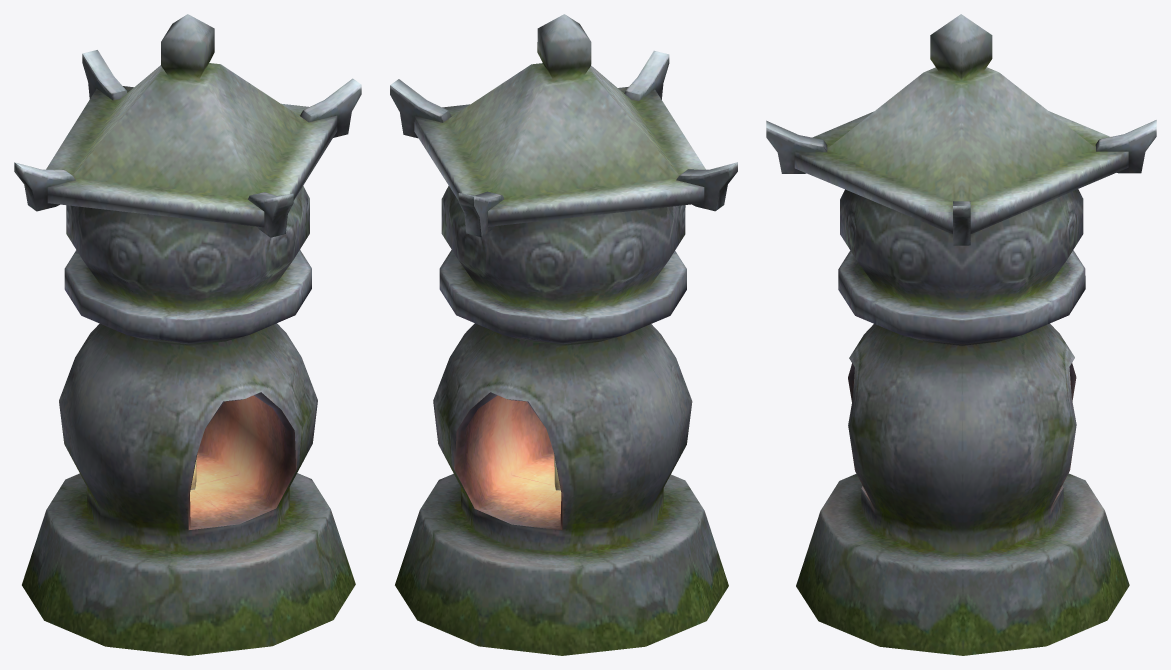
File: DEMO_jnsx_ludeng.FBX
3 renders of one model, left to right at view 1: azimuth 30°, elevation 25°; view 2: azimuth 150°, elevation 25°; view 3: azimuth 270°, elevation 25°, orthographic.
Visible parts, largest first — view 1: DrawCall_0750; view 2: DrawCall_0750; view 3: DrawCall_0750.
Part boxes in pixels (bbox=[...]): DrawCall_0750: bbox=[14, 14, 361, 655]; DrawCall_0750: bbox=[390, 14, 737, 655]; DrawCall_0750: bbox=[766, 14, 1156, 655].
Bounding box in the file's own units: 53.15 × 85.77 × 53.13.
